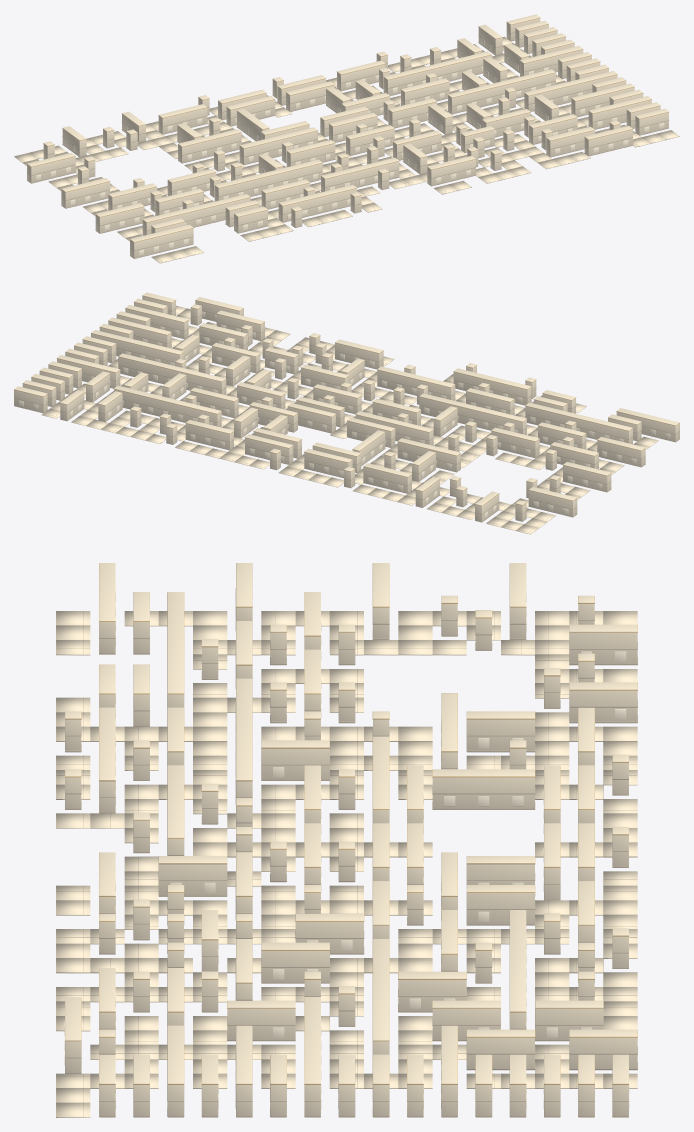
Rendered from castle_district_ward_north_purified.glb.
The picture shows the model from 3 angles, top to bottom: view 1: azimuth 30°, elevation 25°; view 2: azimuth 150°, elevation 25°; view 3: azimuth 270°, elevation 25°; orthographic projection. The views are drawn at different scales.
Visible parts, largest first — view 1: castle_district_ward_north_purified_surface; view 2: castle_district_ward_north_purified_surface; view 3: castle_district_ward_north_purified_surface.
Boxes of the visible parts, <box> form: castle_district_ward_north_purified_surface: <box>14,14,679,263</box>; castle_district_ward_north_purified_surface: <box>14,292,679,534</box>; castle_district_ward_north_purified_surface: <box>56,563,637,1117</box>.
Size of the model in its own units: 180 by 5.56 by 85.04.
